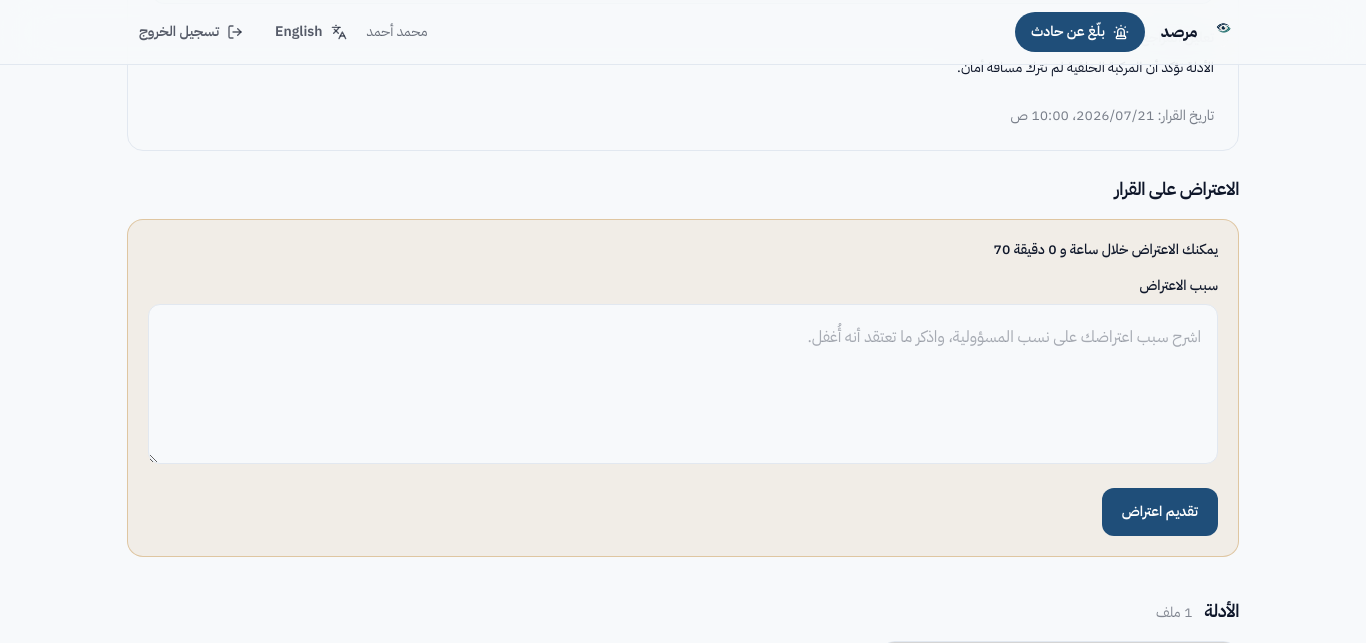
Scenario: CaseDetailPage › surfaces the server’s message when the window closed server-side
This screenshot has width=1366, height=643.
(page scrolled)
In the text box labelled "سبب الاعتراض": (683, 384) left=148, top=304, right=1218, bottom=464, type "اعتراض متأخر"
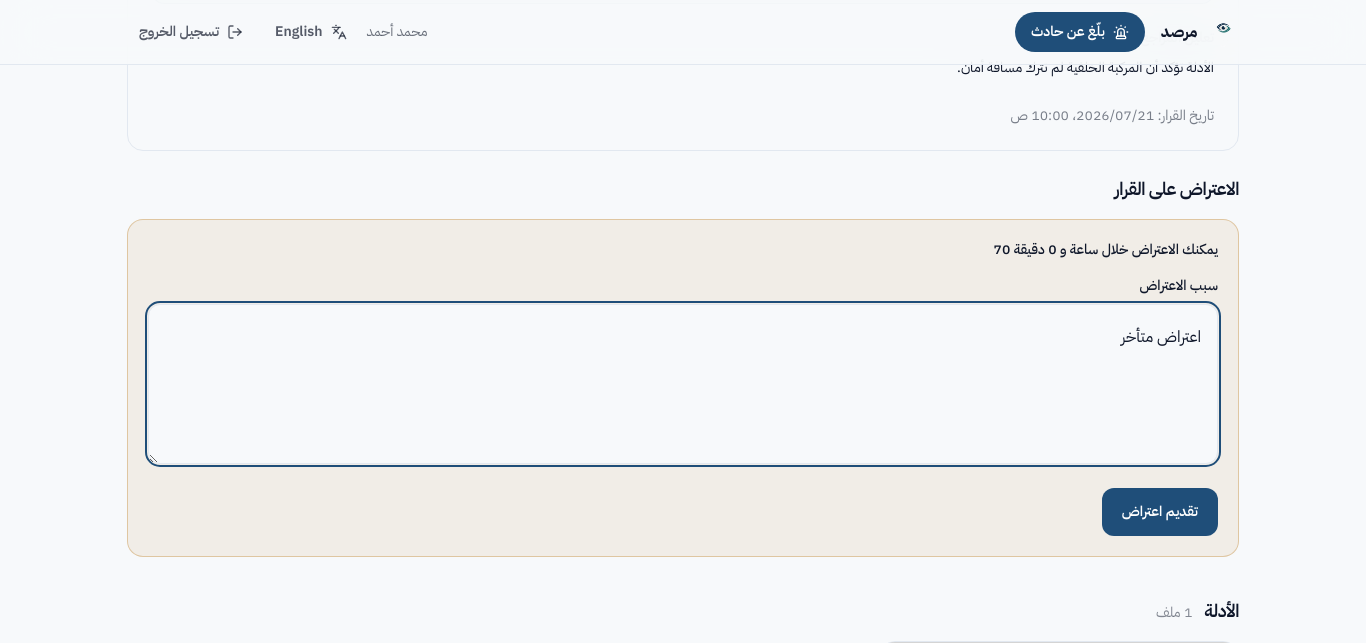
Click the button "تقديم اعتراض": (1160, 512) left=1102, top=488, right=1218, bottom=536
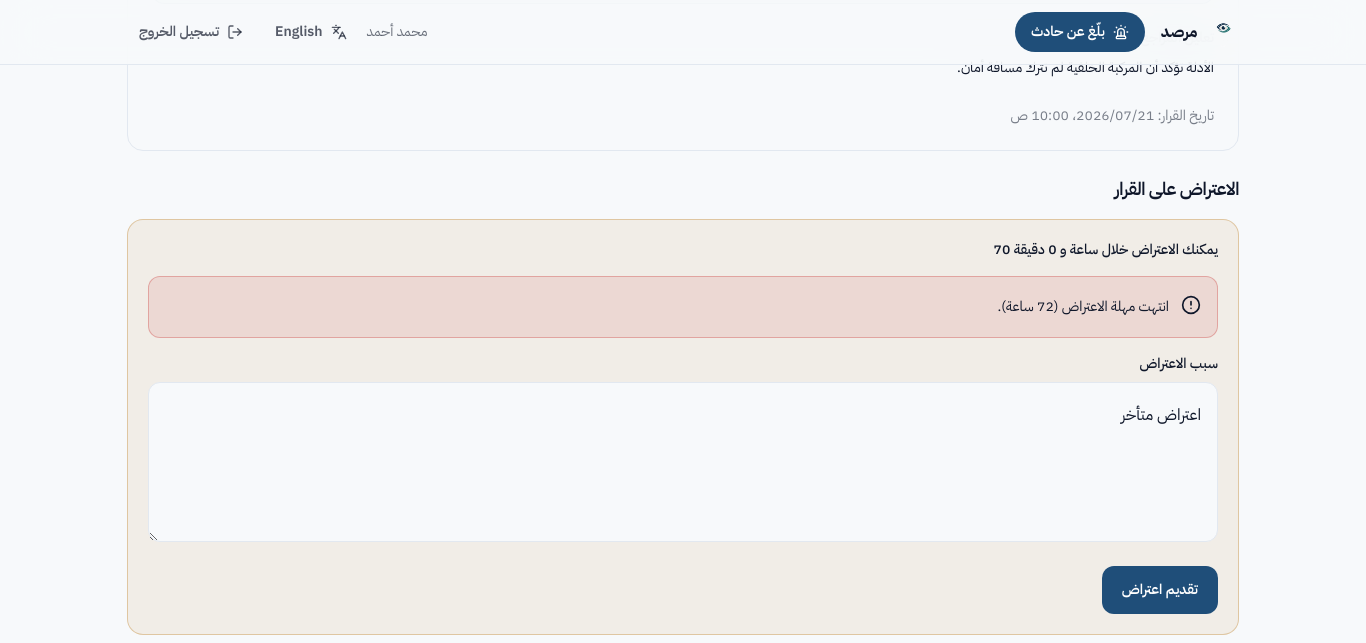
Expected: the text "انتهت مهلة الاعتراض (72 ساعة)." is shown, left=998, top=293, right=1169, bottom=321
